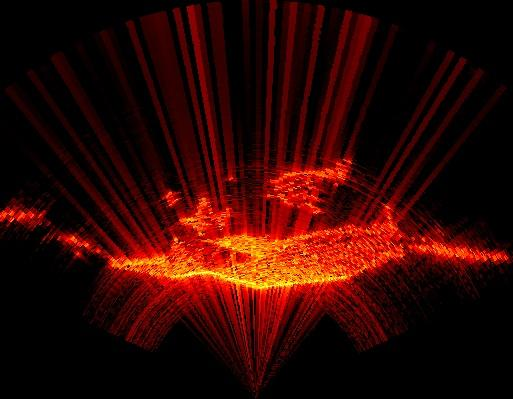shipwreck: (117, 195, 505, 290), (272, 158, 349, 212), (57, 236, 104, 256), (2, 206, 44, 223)
